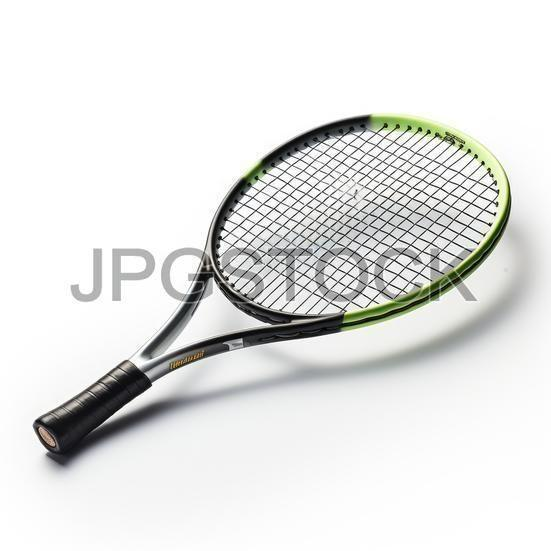Tennis-Racket: (27, 93, 542, 502)
